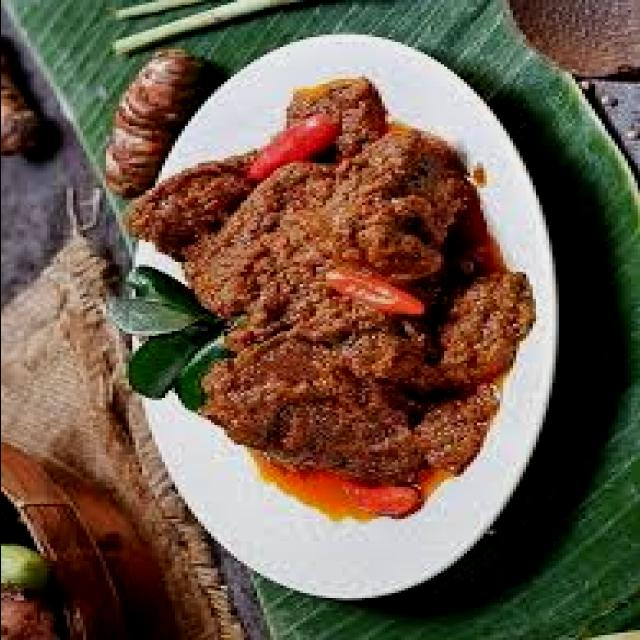rendang: (138, 106, 512, 477)
